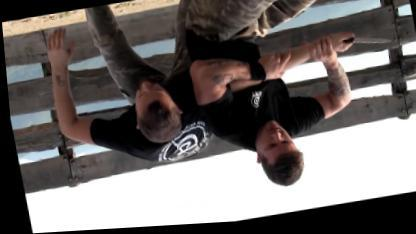knife: (332, 25, 394, 60)
